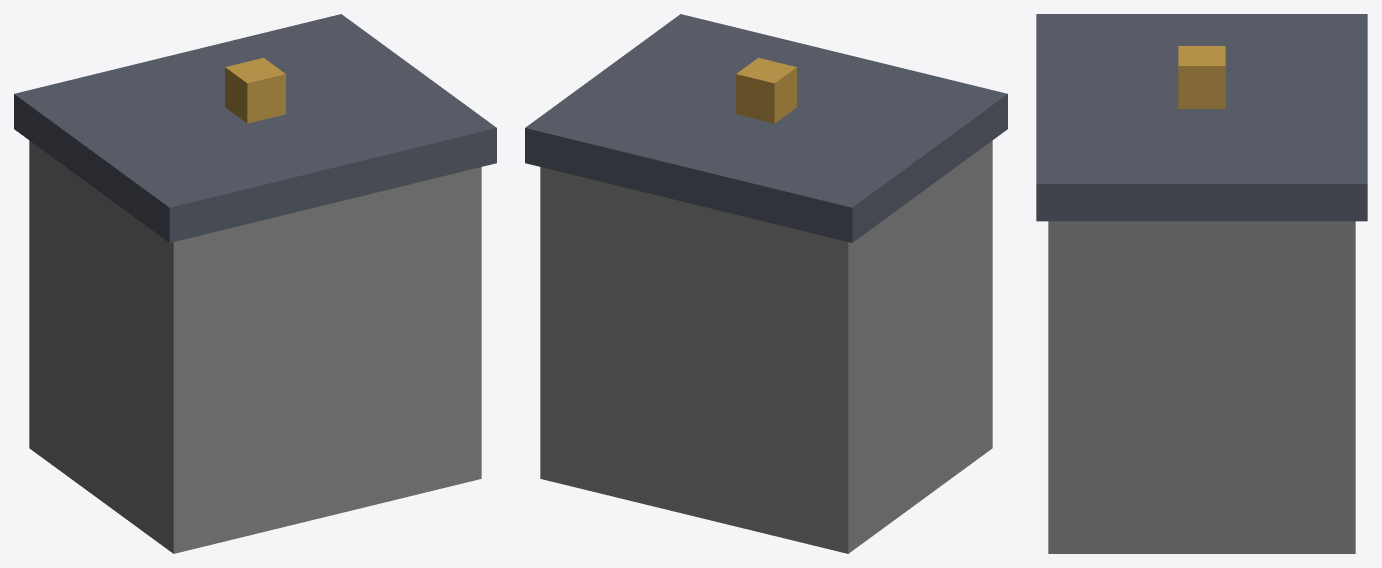
Rendered from gondola.obj.
3 renders of one model, left to right at view 1: azimuth 30°, elevation 25°; view 2: azimuth 150°, elevation 25°; view 3: azimuth 270°, elevation 25°, orthographic. The views are drawn at different scales.
Bounding box in the file's own units: 0.68 × 0.78 × 0.56.
